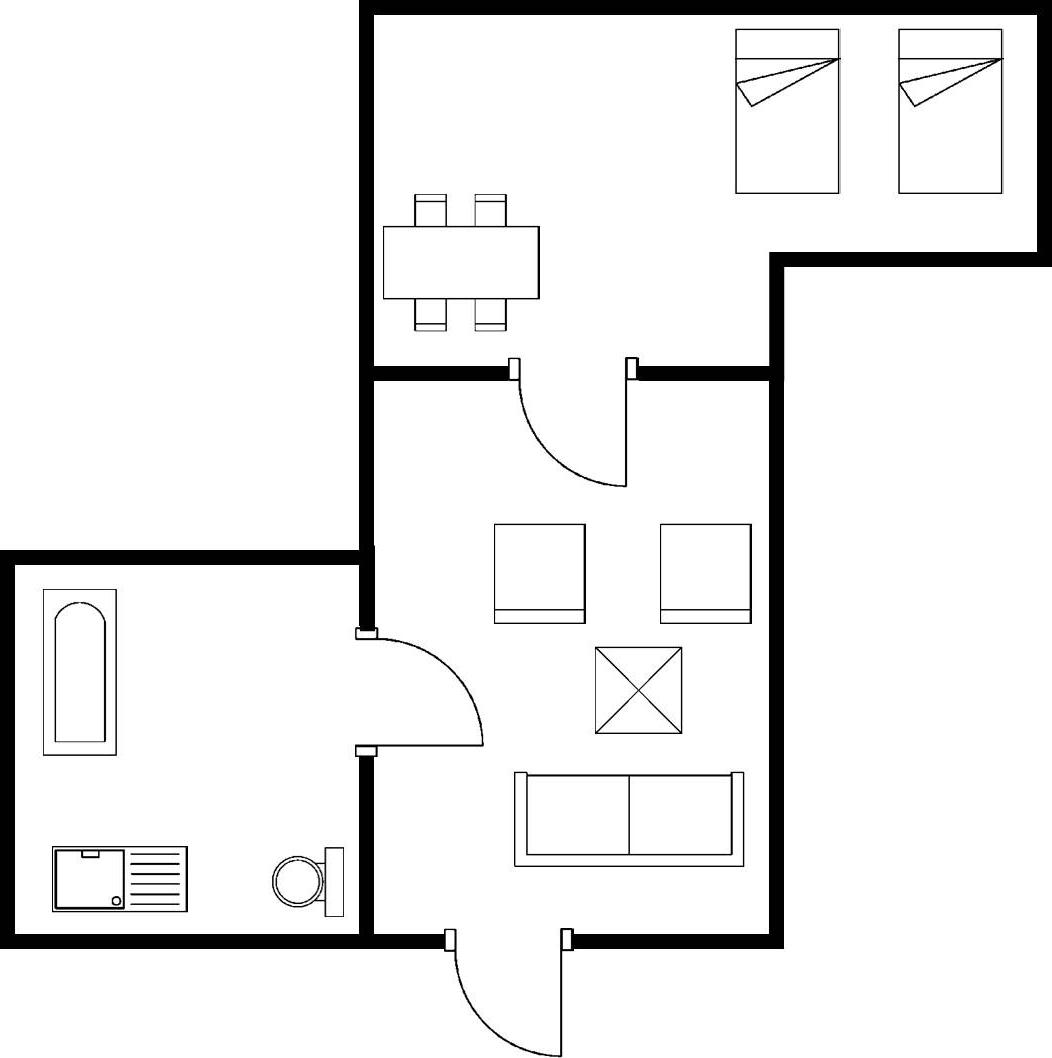bed: (722, 19, 847, 204), (893, 21, 1013, 200)
dining_table: (378, 185, 550, 342)
sink: (46, 836, 198, 919)
sofa: (510, 765, 753, 874)
toilet: (269, 839, 350, 923)
tub: (36, 583, 126, 761)
